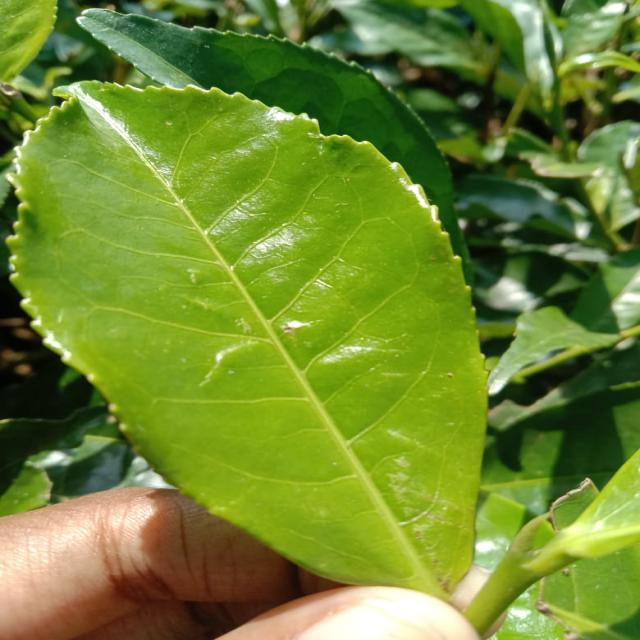Category B 2-4 days: (5, 55, 508, 599)
